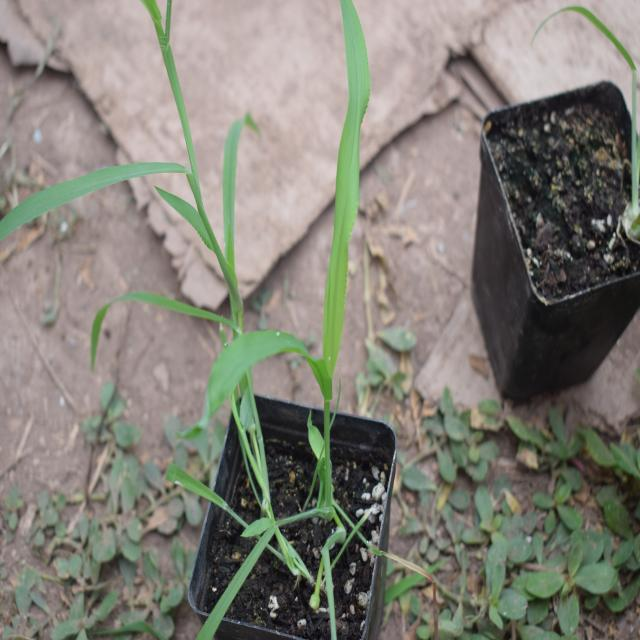crabgrass: (204, 23, 405, 510), (0, 25, 276, 332)
